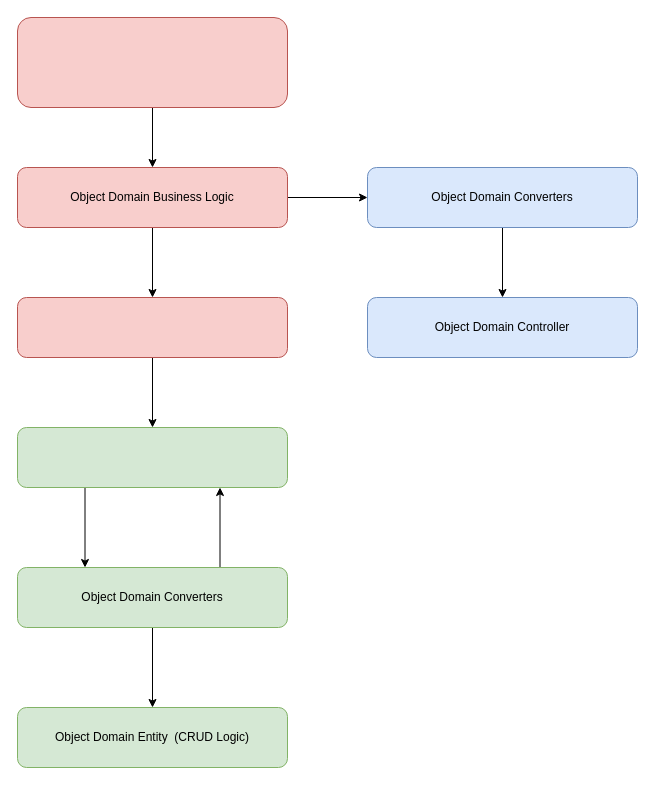
The diagram is 655 pixels wide and 785 high, and some of its shapes have lost their labels. Here are the shapes that lost their labels. From the top down, the centre of each, then its label:
At pixel 152 62: "Object Domain".
At pixel 152 327: "Object Domain Repositoy Interface".
At pixel 152 457: "Object Domain Repositoy Implementation".
